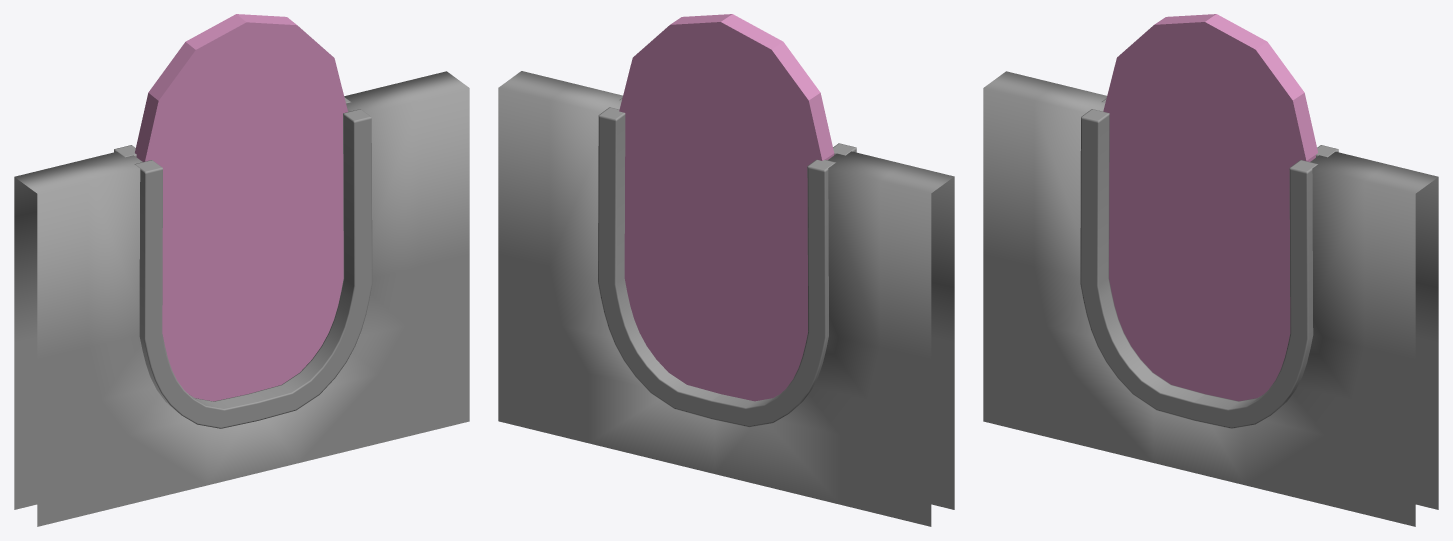
The model's file is Porta_bassa.FBX.
3 views of the same model, side by side, from view 1: azimuth 30°, elevation 25°; view 2: azimuth 150°, elevation 25°; view 3: azimuth 330°, elevation 25° (orthographic).
Visible parts, largest first — view 1: Door_down, Vetro_door; view 2: Door_down, Vetro_door; view 3: Door_down, Vetro_door.
Boxes of the visible parts, x1,y1,x2,y2 form: Door_down: (14, 71, 469, 526); Vetro_door: (135, 14, 347, 401); Door_down: (498, 71, 954, 526); Vetro_door: (619, 14, 834, 401); Door_down: (983, 71, 1438, 526); Vetro_door: (1103, 14, 1317, 401).
Bounding box in the file's own units: 2.2 × 2.18 × 0.277.
